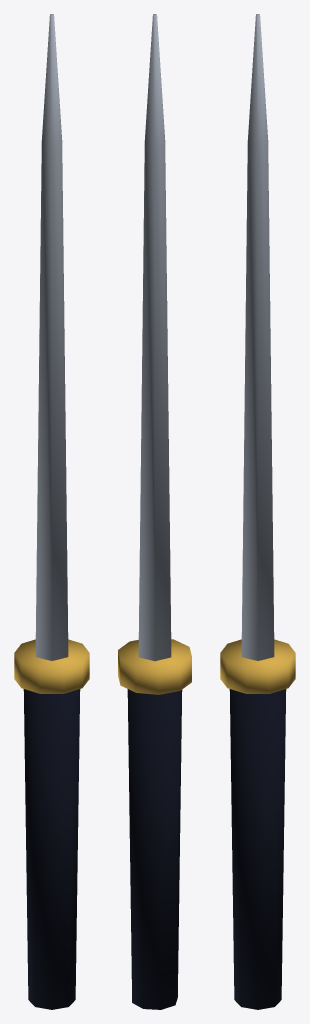
File: stylus.glb
3 views of the same model, side by side, from view 1: azimuth 90°, elevation 25°; view 2: azimuth 150°, elevation 25°; view 3: azimuth 270°, elevation 25° (orthographic).
Parts seen in each view (by area): view 1: Stylus; view 2: Stylus; view 3: Stylus.
Boxes of the visible parts, left/top/right/bottom form: Stylus: left=14, top=14, right=89, bottom=1009; Stylus: left=118, top=14, right=191, bottom=1009; Stylus: left=220, top=14, right=295, bottom=1009.
Bounding box in the file's own units: 0.0304 × 0.46 × 0.032.
